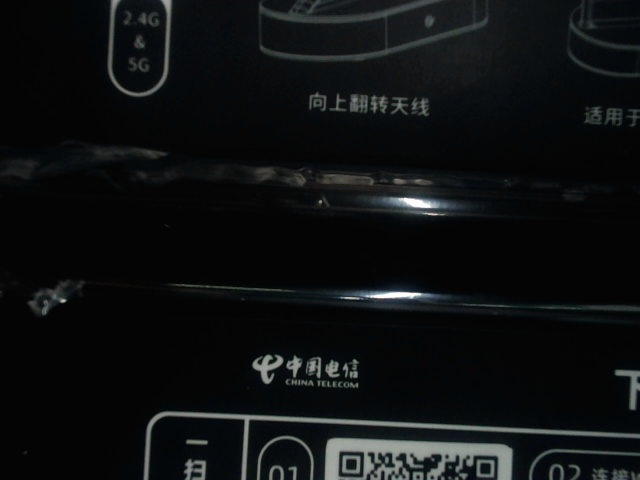AB_ChinaTelecom: (245, 346, 376, 399)
